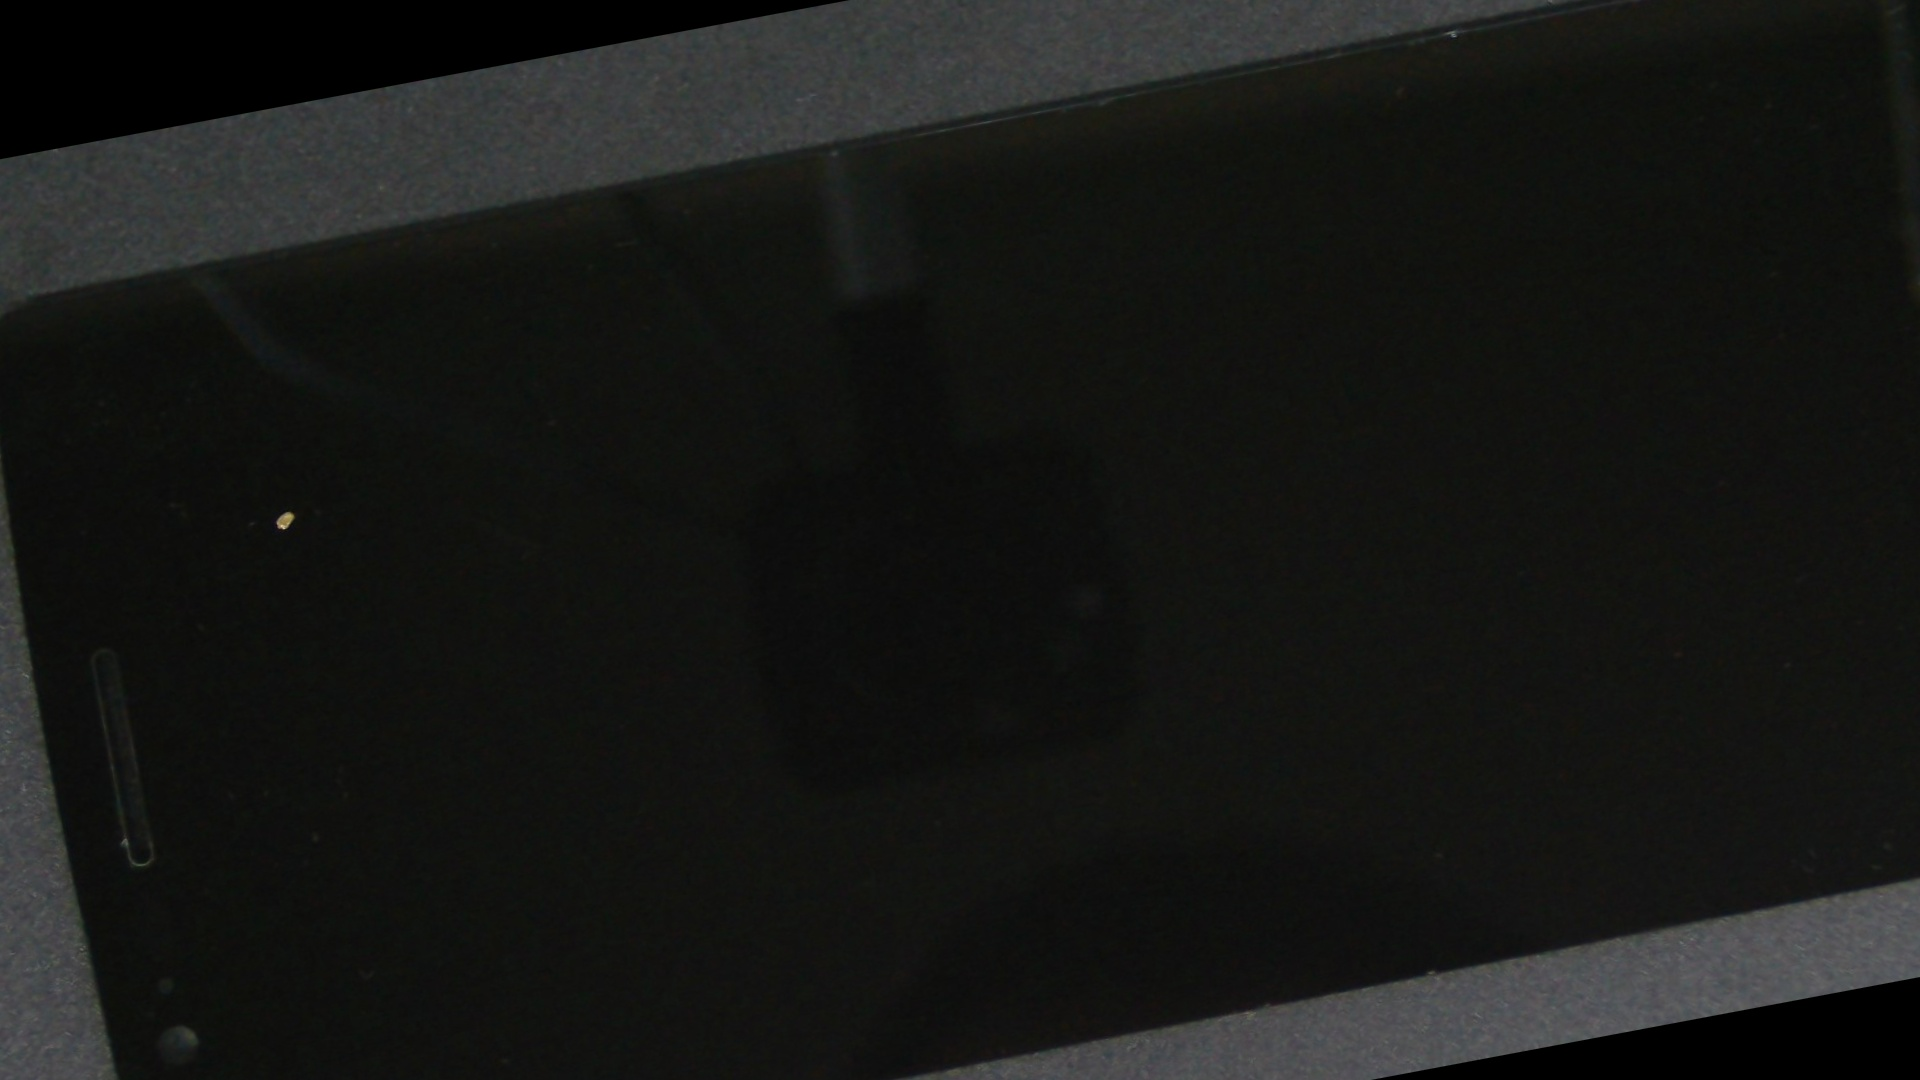oil: (885, 44, 1920, 810), (37, 274, 531, 748)
